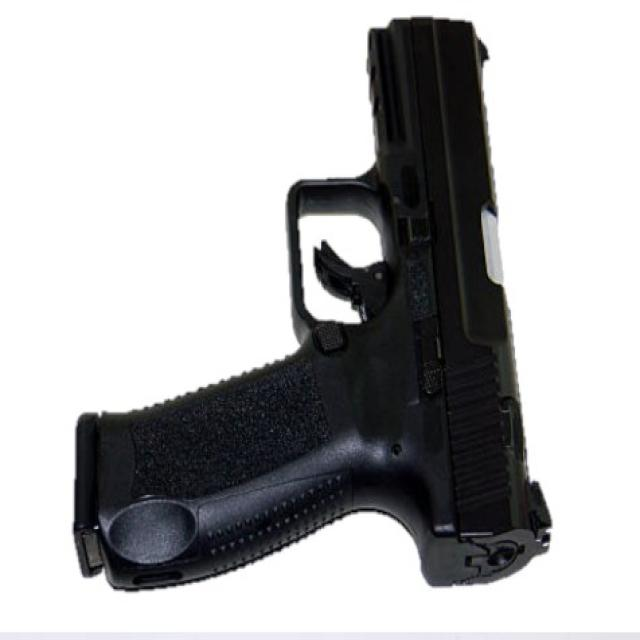pistol: (68, 1, 557, 631)
